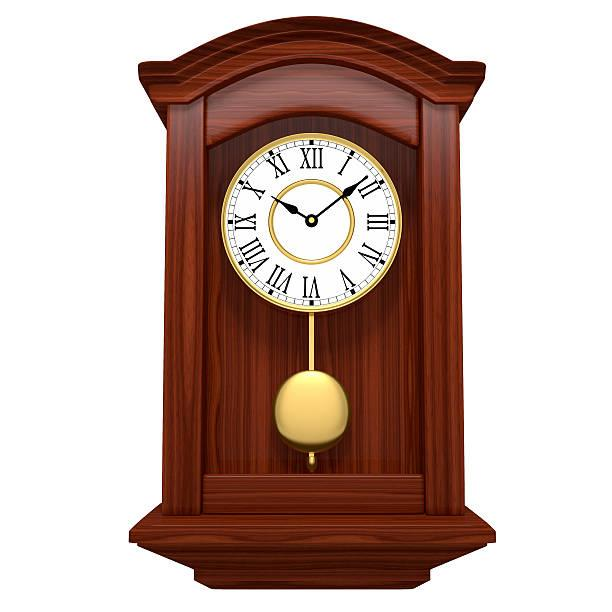clock: (222, 137, 403, 310)
